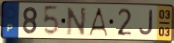2: (117, 7, 133, 38)
5: (42, 5, 61, 38)
8: (22, 6, 38, 36)
A: (86, 7, 109, 38)
J: (138, 9, 155, 37)
N: (65, 6, 88, 37)
